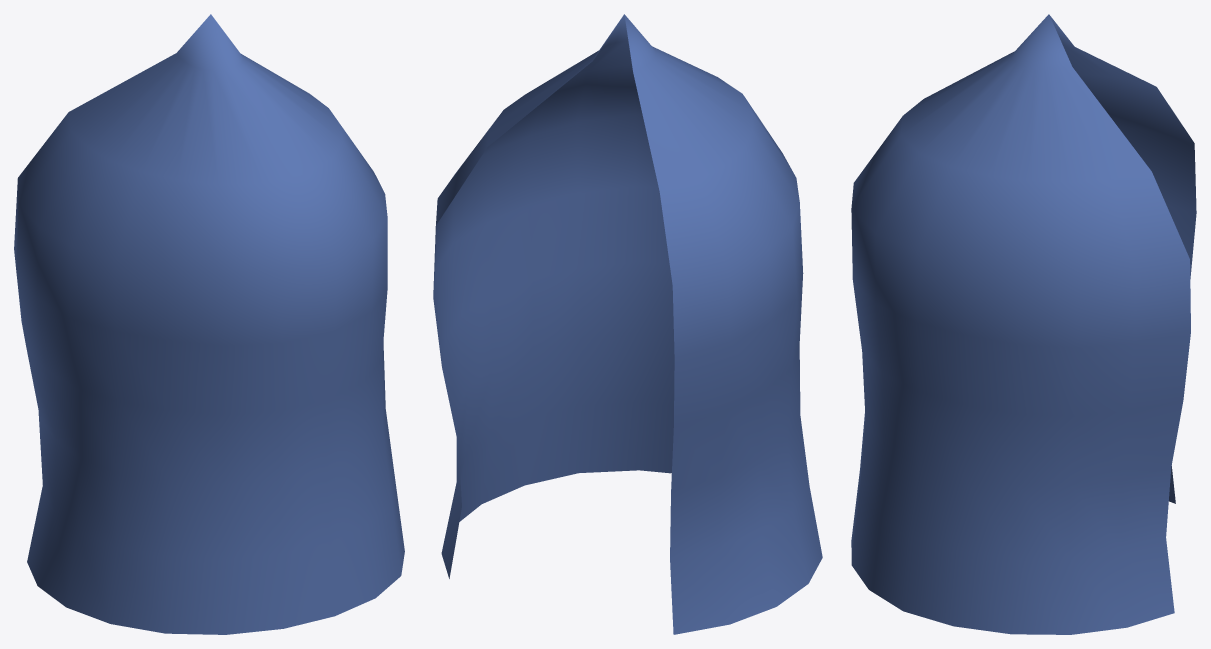
File: spectre_hood.glb
3 renders of one model, left to right at view 1: azimuth 30°, elevation 25°; view 2: azimuth 150°, elevation 25°; view 3: azimuth 270°, elevation 25°, orthographic.
Visible parts, largest first — view 1: spectre_hood_head; view 2: spectre_hood_head; view 3: spectre_hood_head.
Part boxes in pixels (left/top/right/bottom): spectre_hood_head: left=14, top=14, right=404, bottom=634; spectre_hood_head: left=433, top=14, right=822, bottom=634; spectre_hood_head: left=851, top=14, right=1196, bottom=634.
Size of the model in its own units: 0.2304 by 0.3685 by 0.2116.
